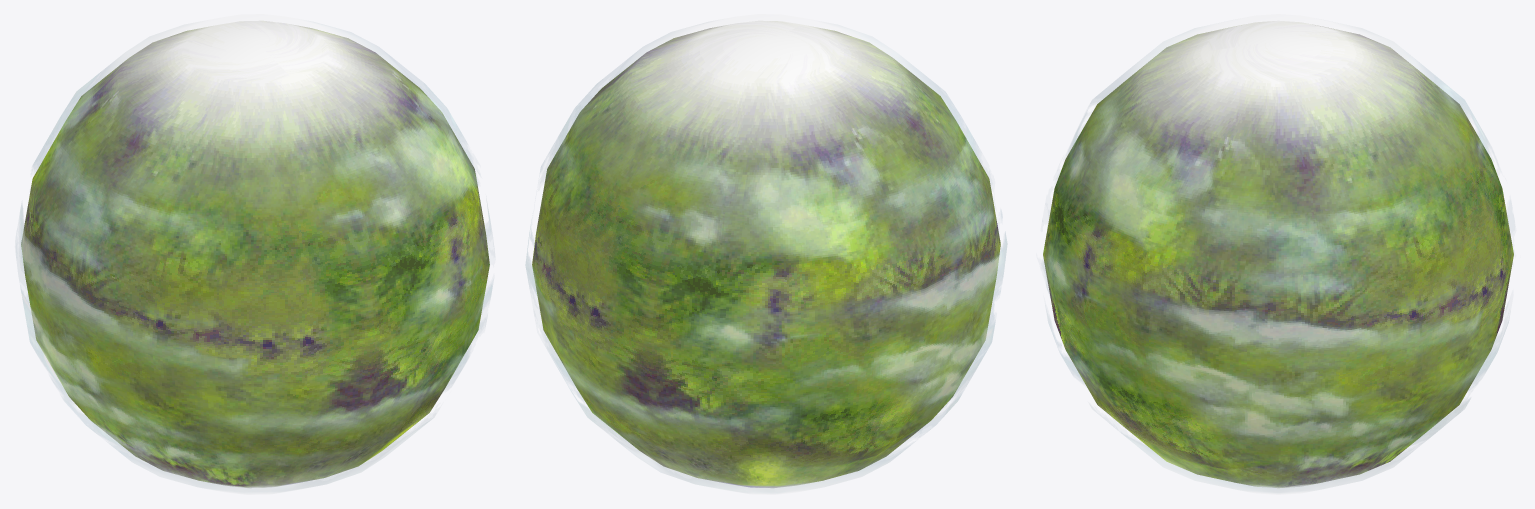
Rendered from ptreeplanet_cmp.gltf.
3 renders of one model, left to right at view 1: azimuth 30°, elevation 25°; view 2: azimuth 150°, elevation 25°; view 3: azimuth 270°, elevation 25°, orthographic.
Parts seen in each view (by area): view 1: Root, clouds; view 2: Root, clouds; view 3: Root, clouds.
Part boxes in pixels (x1,y1,x2,y2): Root: (21, 20, 489, 488); clouds: (16, 14, 492, 494); Root: (532, 20, 1000, 488); clouds: (525, 14, 1007, 494); Root: (1043, 20, 1513, 488); clouds: (1042, 14, 1509, 494).
Bounding box in the file's own units: 44.28 × 44.28 × 44.28.
2 materials, 2 textured.
